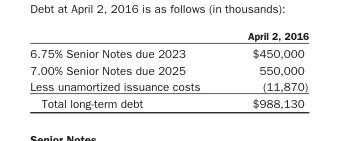table: (29, 29, 308, 110)
table column: (29, 29, 223, 110), (223, 29, 308, 110)
table column header: (29, 29, 308, 43)
table row: (29, 43, 308, 61), (29, 61, 308, 78), (29, 78, 308, 94), (29, 94, 308, 110), (29, 29, 308, 43)
